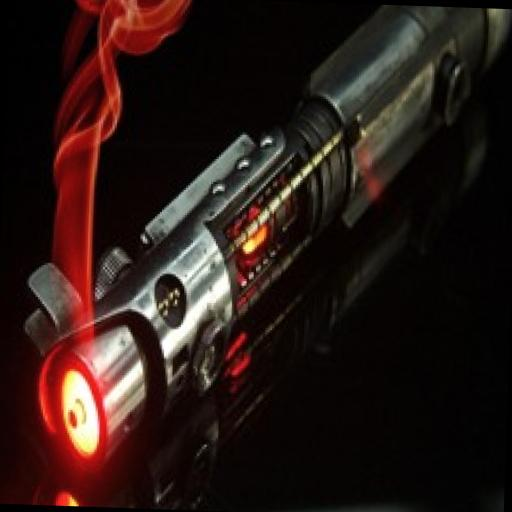sith saber: (16, 0, 511, 489)
